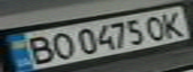0: (75, 25, 100, 55)
4: (93, 21, 115, 52)
5: (124, 16, 151, 45)
7: (109, 19, 130, 48)
B: (18, 33, 57, 65)
K: (157, 8, 190, 38)
O: (142, 11, 172, 42), (45, 29, 75, 60)
